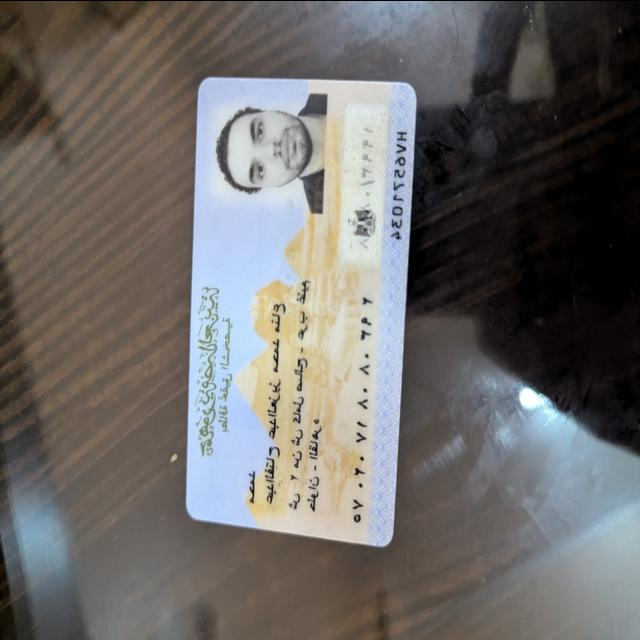id_card: (177, 71, 428, 560)
